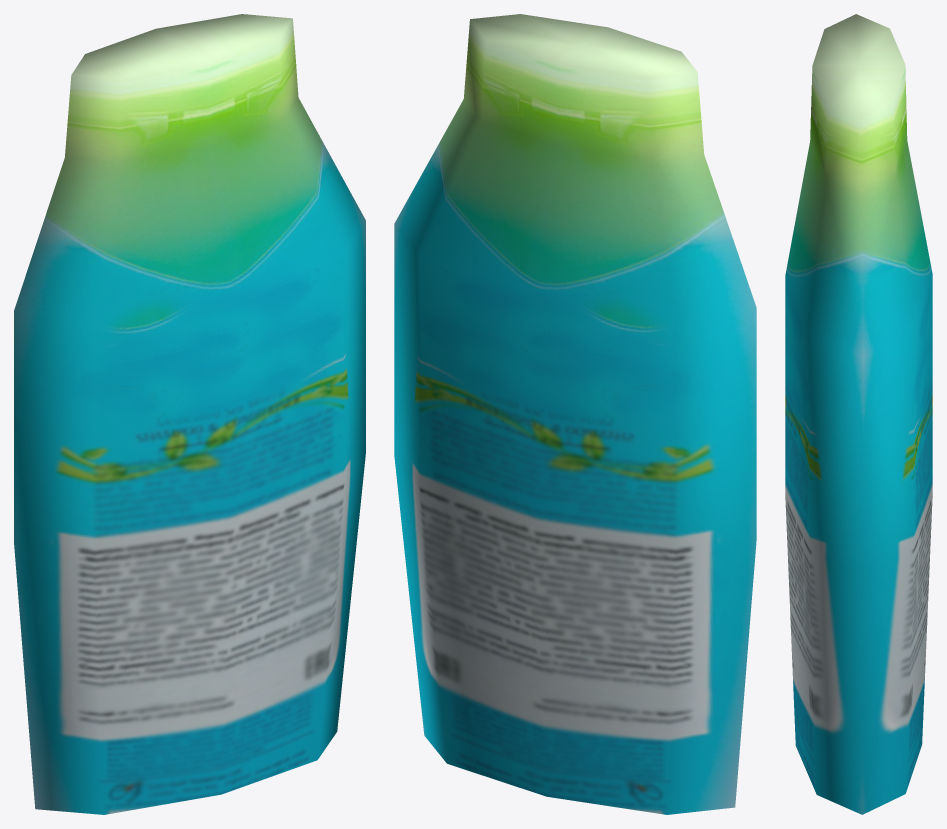
Rendered from Shampoo2.FBX.
3 renders of one model, left to right at view 1: azimuth 30°, elevation 25°; view 2: azimuth 150°, elevation 25°; view 3: azimuth 270°, elevation 25°, orthographic. The views are drawn at different scales.
Parts seen in each view (by area): view 1: Shampoo2; view 2: Shampoo2; view 3: Shampoo2.
Boxes of the visible parts, x1=… form: Shampoo2: x1=14, y1=14, x2=365, y2=814; Shampoo2: x1=394, y1=14, x2=756, y2=814; Shampoo2: x1=785, y1=14, x2=932, y2=814.
Size of the model in its own units: 5.13 by 9.97 by 1.97.
